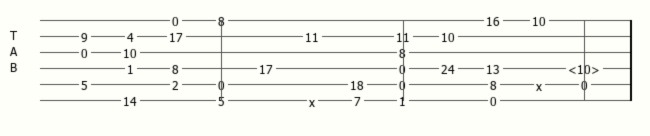0: (81, 46, 92, 59), (172, 14, 183, 27), (218, 78, 229, 91), (399, 62, 410, 75), (399, 78, 410, 91), (490, 94, 501, 107), (581, 78, 592, 91)
1: (127, 62, 138, 75), (399, 94, 410, 107)
10: (123, 46, 141, 59), (441, 30, 459, 43), (532, 14, 550, 27)
11: (305, 30, 323, 43), (396, 30, 414, 43)
13: (486, 62, 504, 75)
14: (123, 94, 141, 107)
16: (486, 14, 504, 27)
17: (169, 30, 187, 43), (259, 62, 277, 75)
18: (350, 78, 368, 91)
2: (172, 78, 183, 91)
24: (441, 62, 459, 75)
4: (127, 30, 138, 43)
5: (81, 78, 92, 91), (218, 94, 229, 107)
7: (354, 94, 365, 107)
8: (172, 62, 183, 75), (218, 14, 229, 27), (399, 46, 410, 59), (490, 78, 501, 91)
9: (81, 30, 92, 43)
harmonic: (568, 62, 604, 75)
x: (309, 95, 319, 106), (536, 79, 546, 90)
